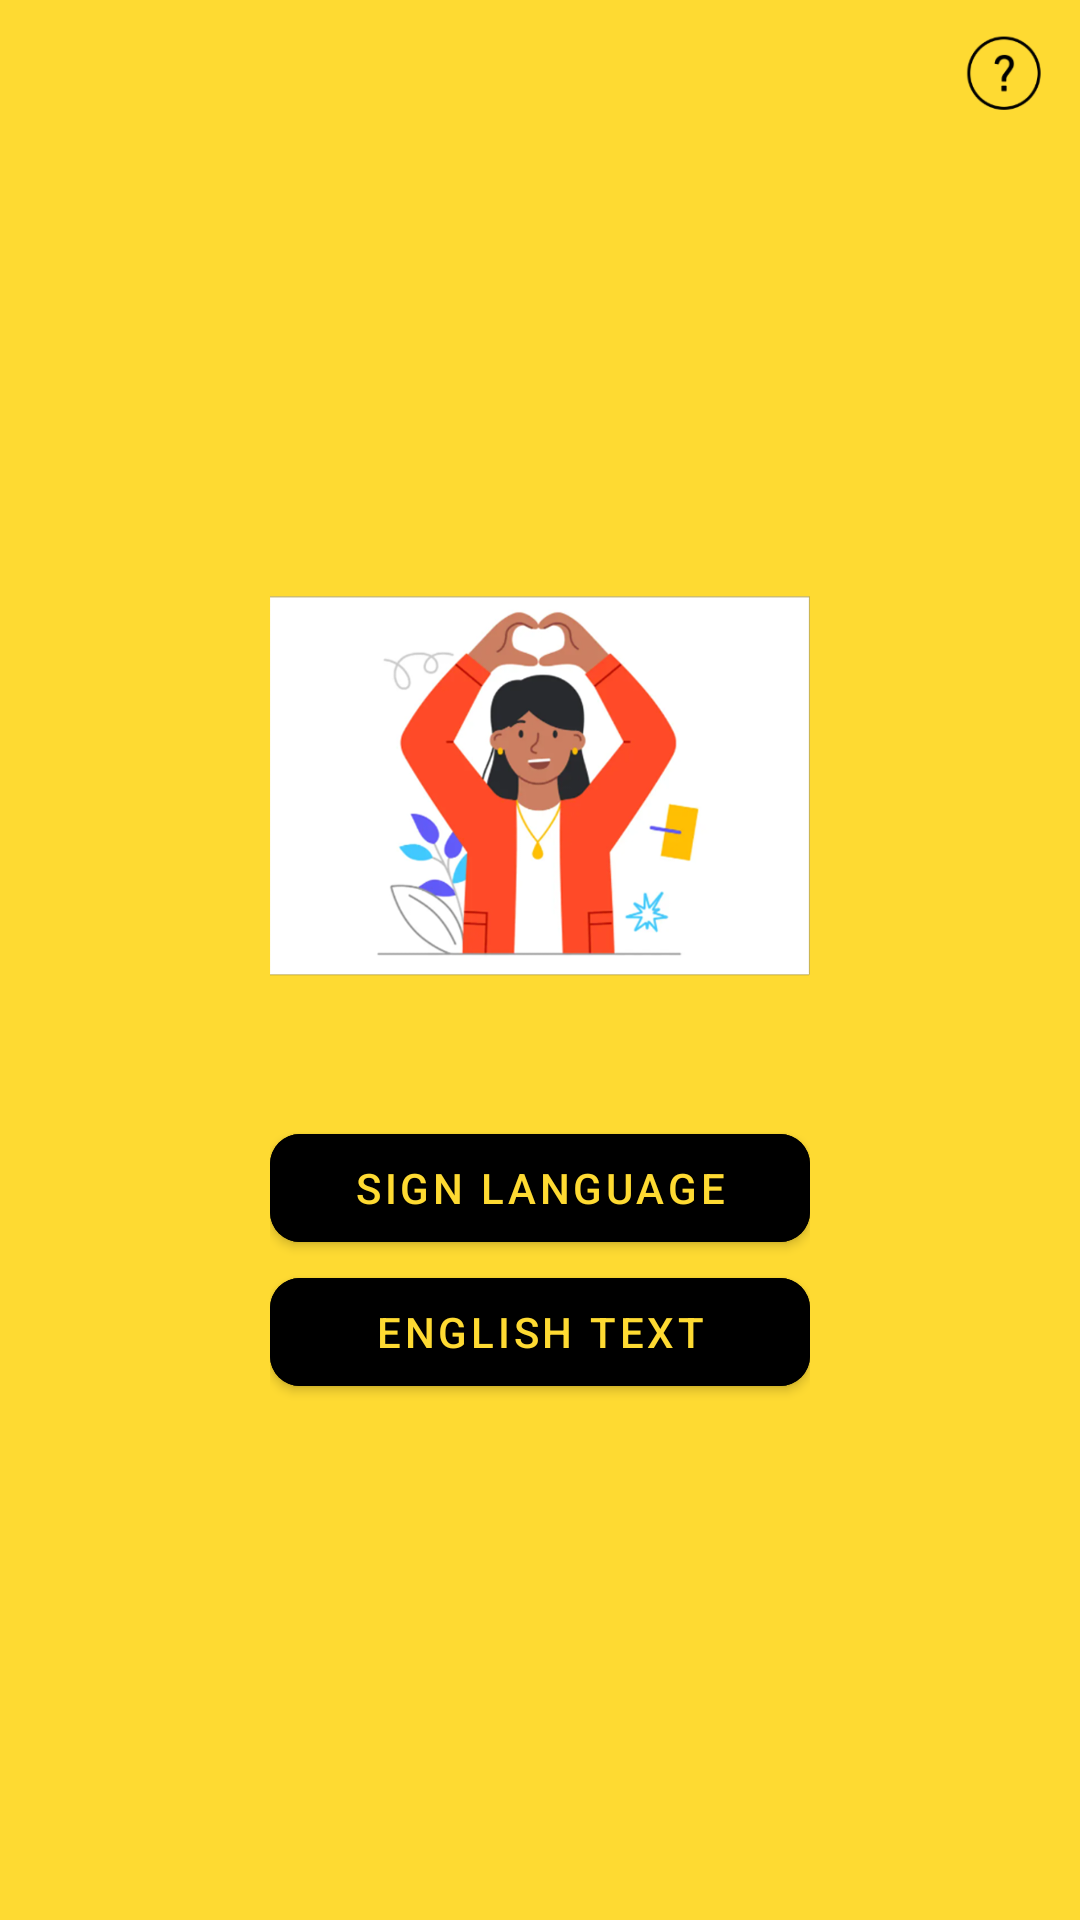

Named icons in this screenshot (1080*1920) and their bounding boxes, [x1=x1, y1=y1, x2=x2, y2=y2]:
info: [x1=967, y1=36, x2=1041, y2=110]
